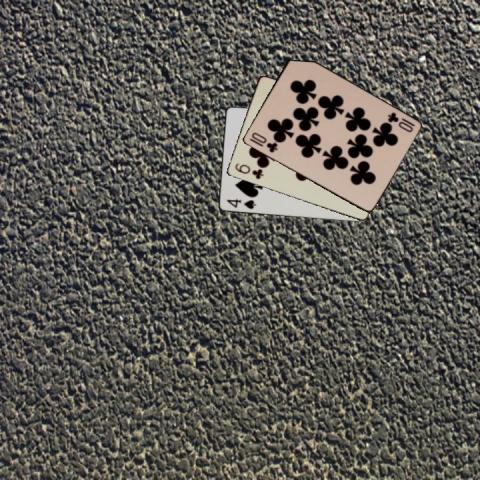10c: (246, 129, 279, 154), (384, 109, 416, 134)
4s: (224, 196, 258, 211)
6c: (232, 160, 265, 181)
